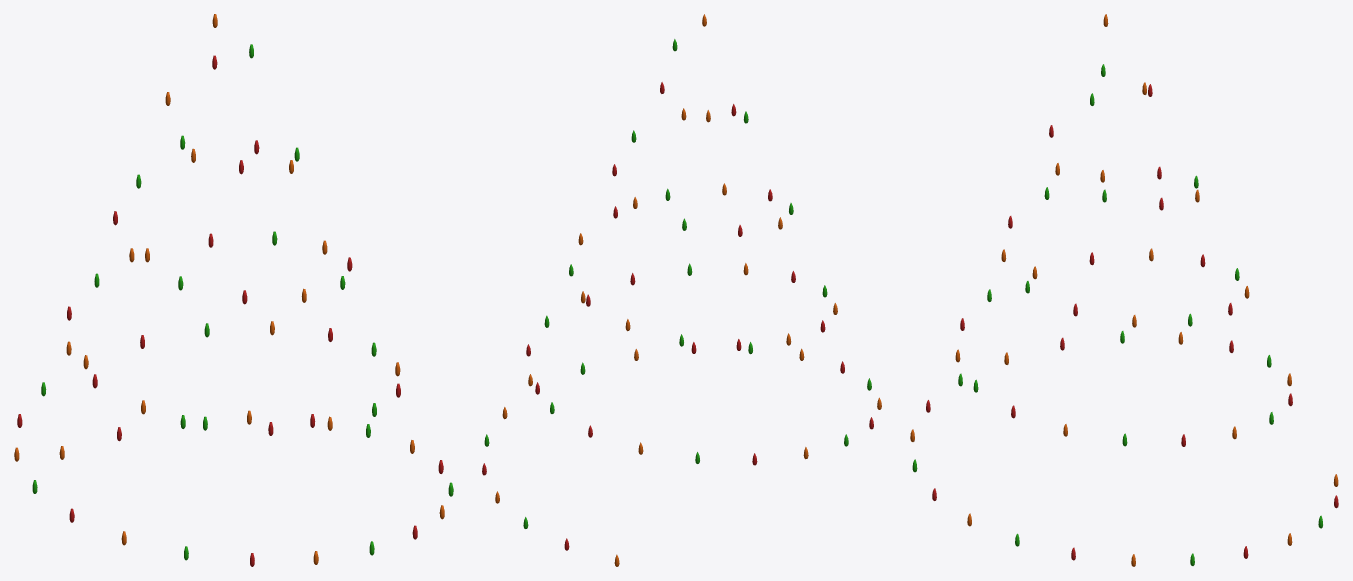
The model's file is Girlaynda_01.FBX.
3 renders of one model, left to right at view 1: azimuth 30°, elevation 25°; view 2: azimuth 150°, elevation 25°; view 3: azimuth 270°, elevation 25°, orthographic. The views are drawn at different scales.
Parts seen in each view (by area): view 1: svecha001; view 2: svecha001; view 3: svecha001.
Boxes of the visible parts, x1=… form: svecha001: x1=14, y1=14, x2=453, y2=566; svecha001: x1=482, y1=14, x2=881, y2=566; svecha001: x1=910, y1=14, x2=1338, y2=566.
Size of the model in its own units: 1.35 by 1.76 by 1.41.
